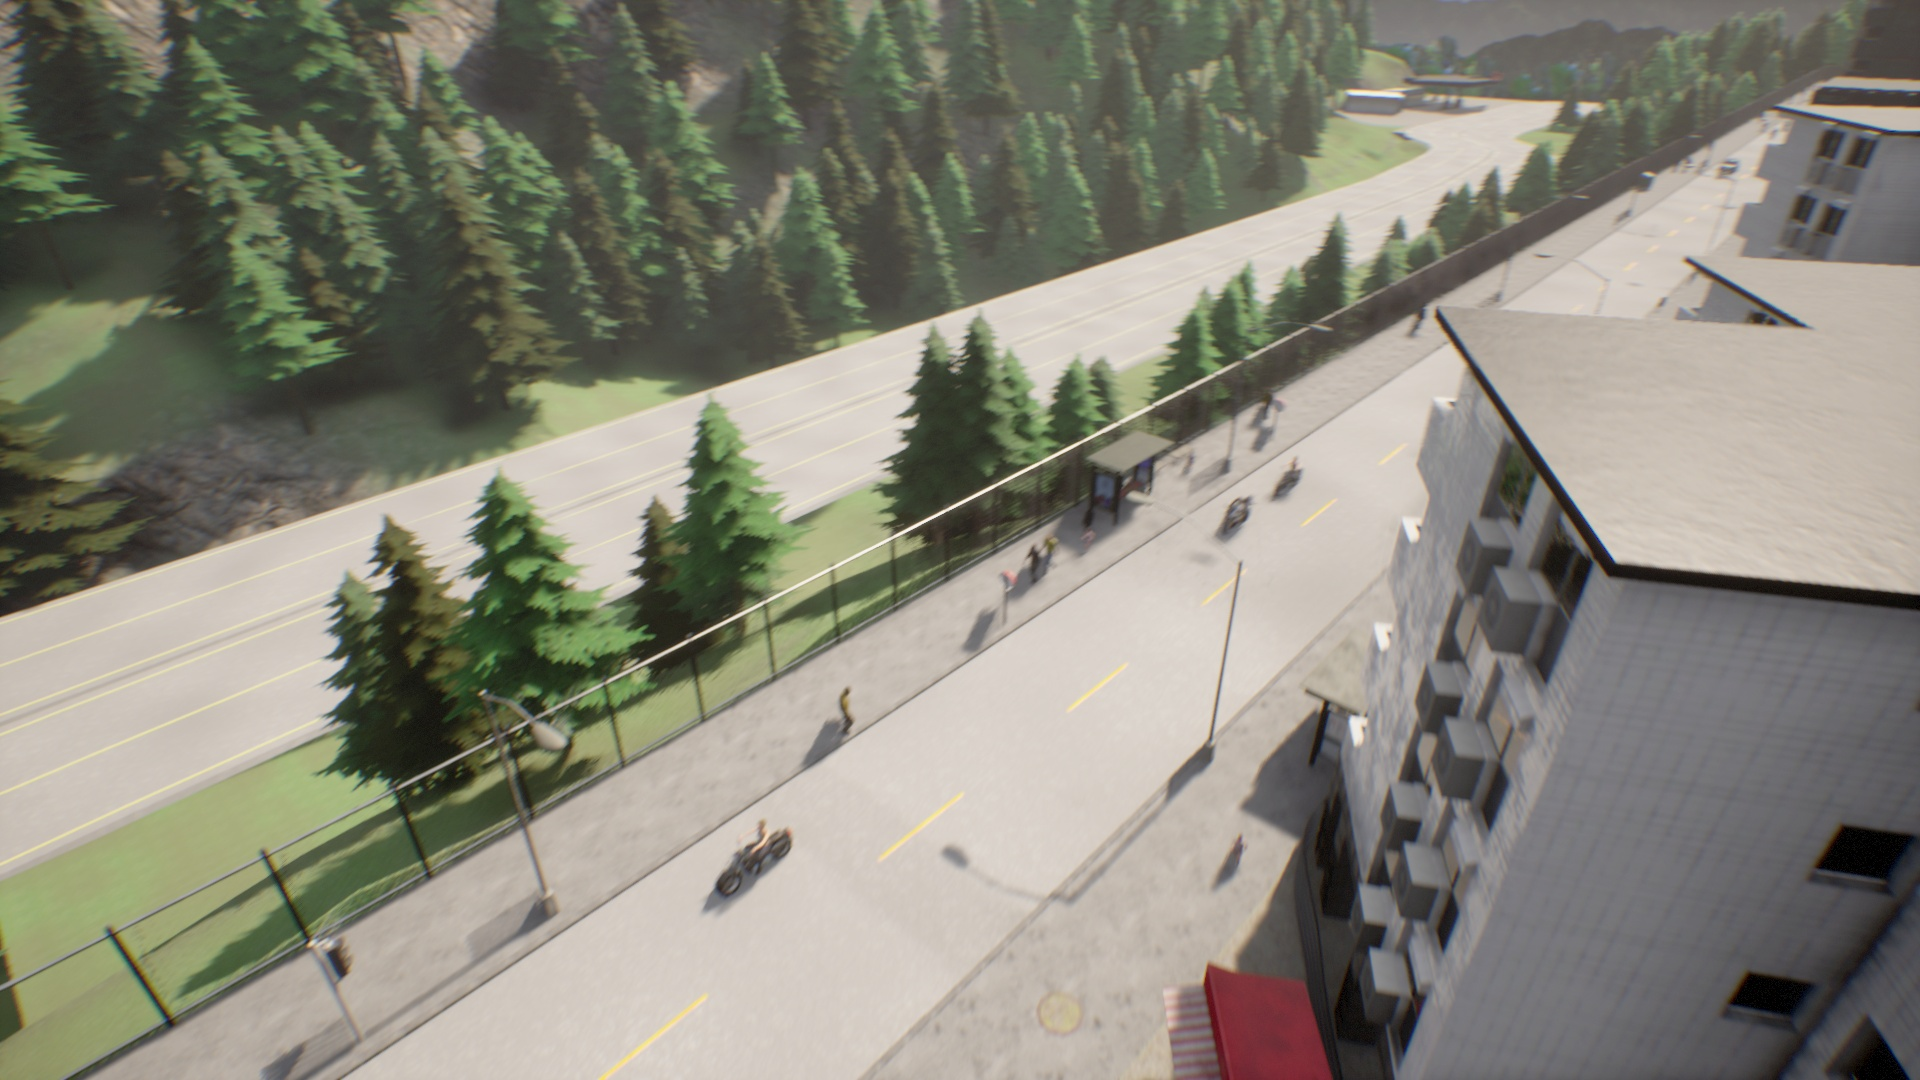Car: (1717, 150, 1739, 178)
Motorcycle: (703, 815, 802, 907), (1263, 463, 1323, 497), (1224, 493, 1262, 534)
